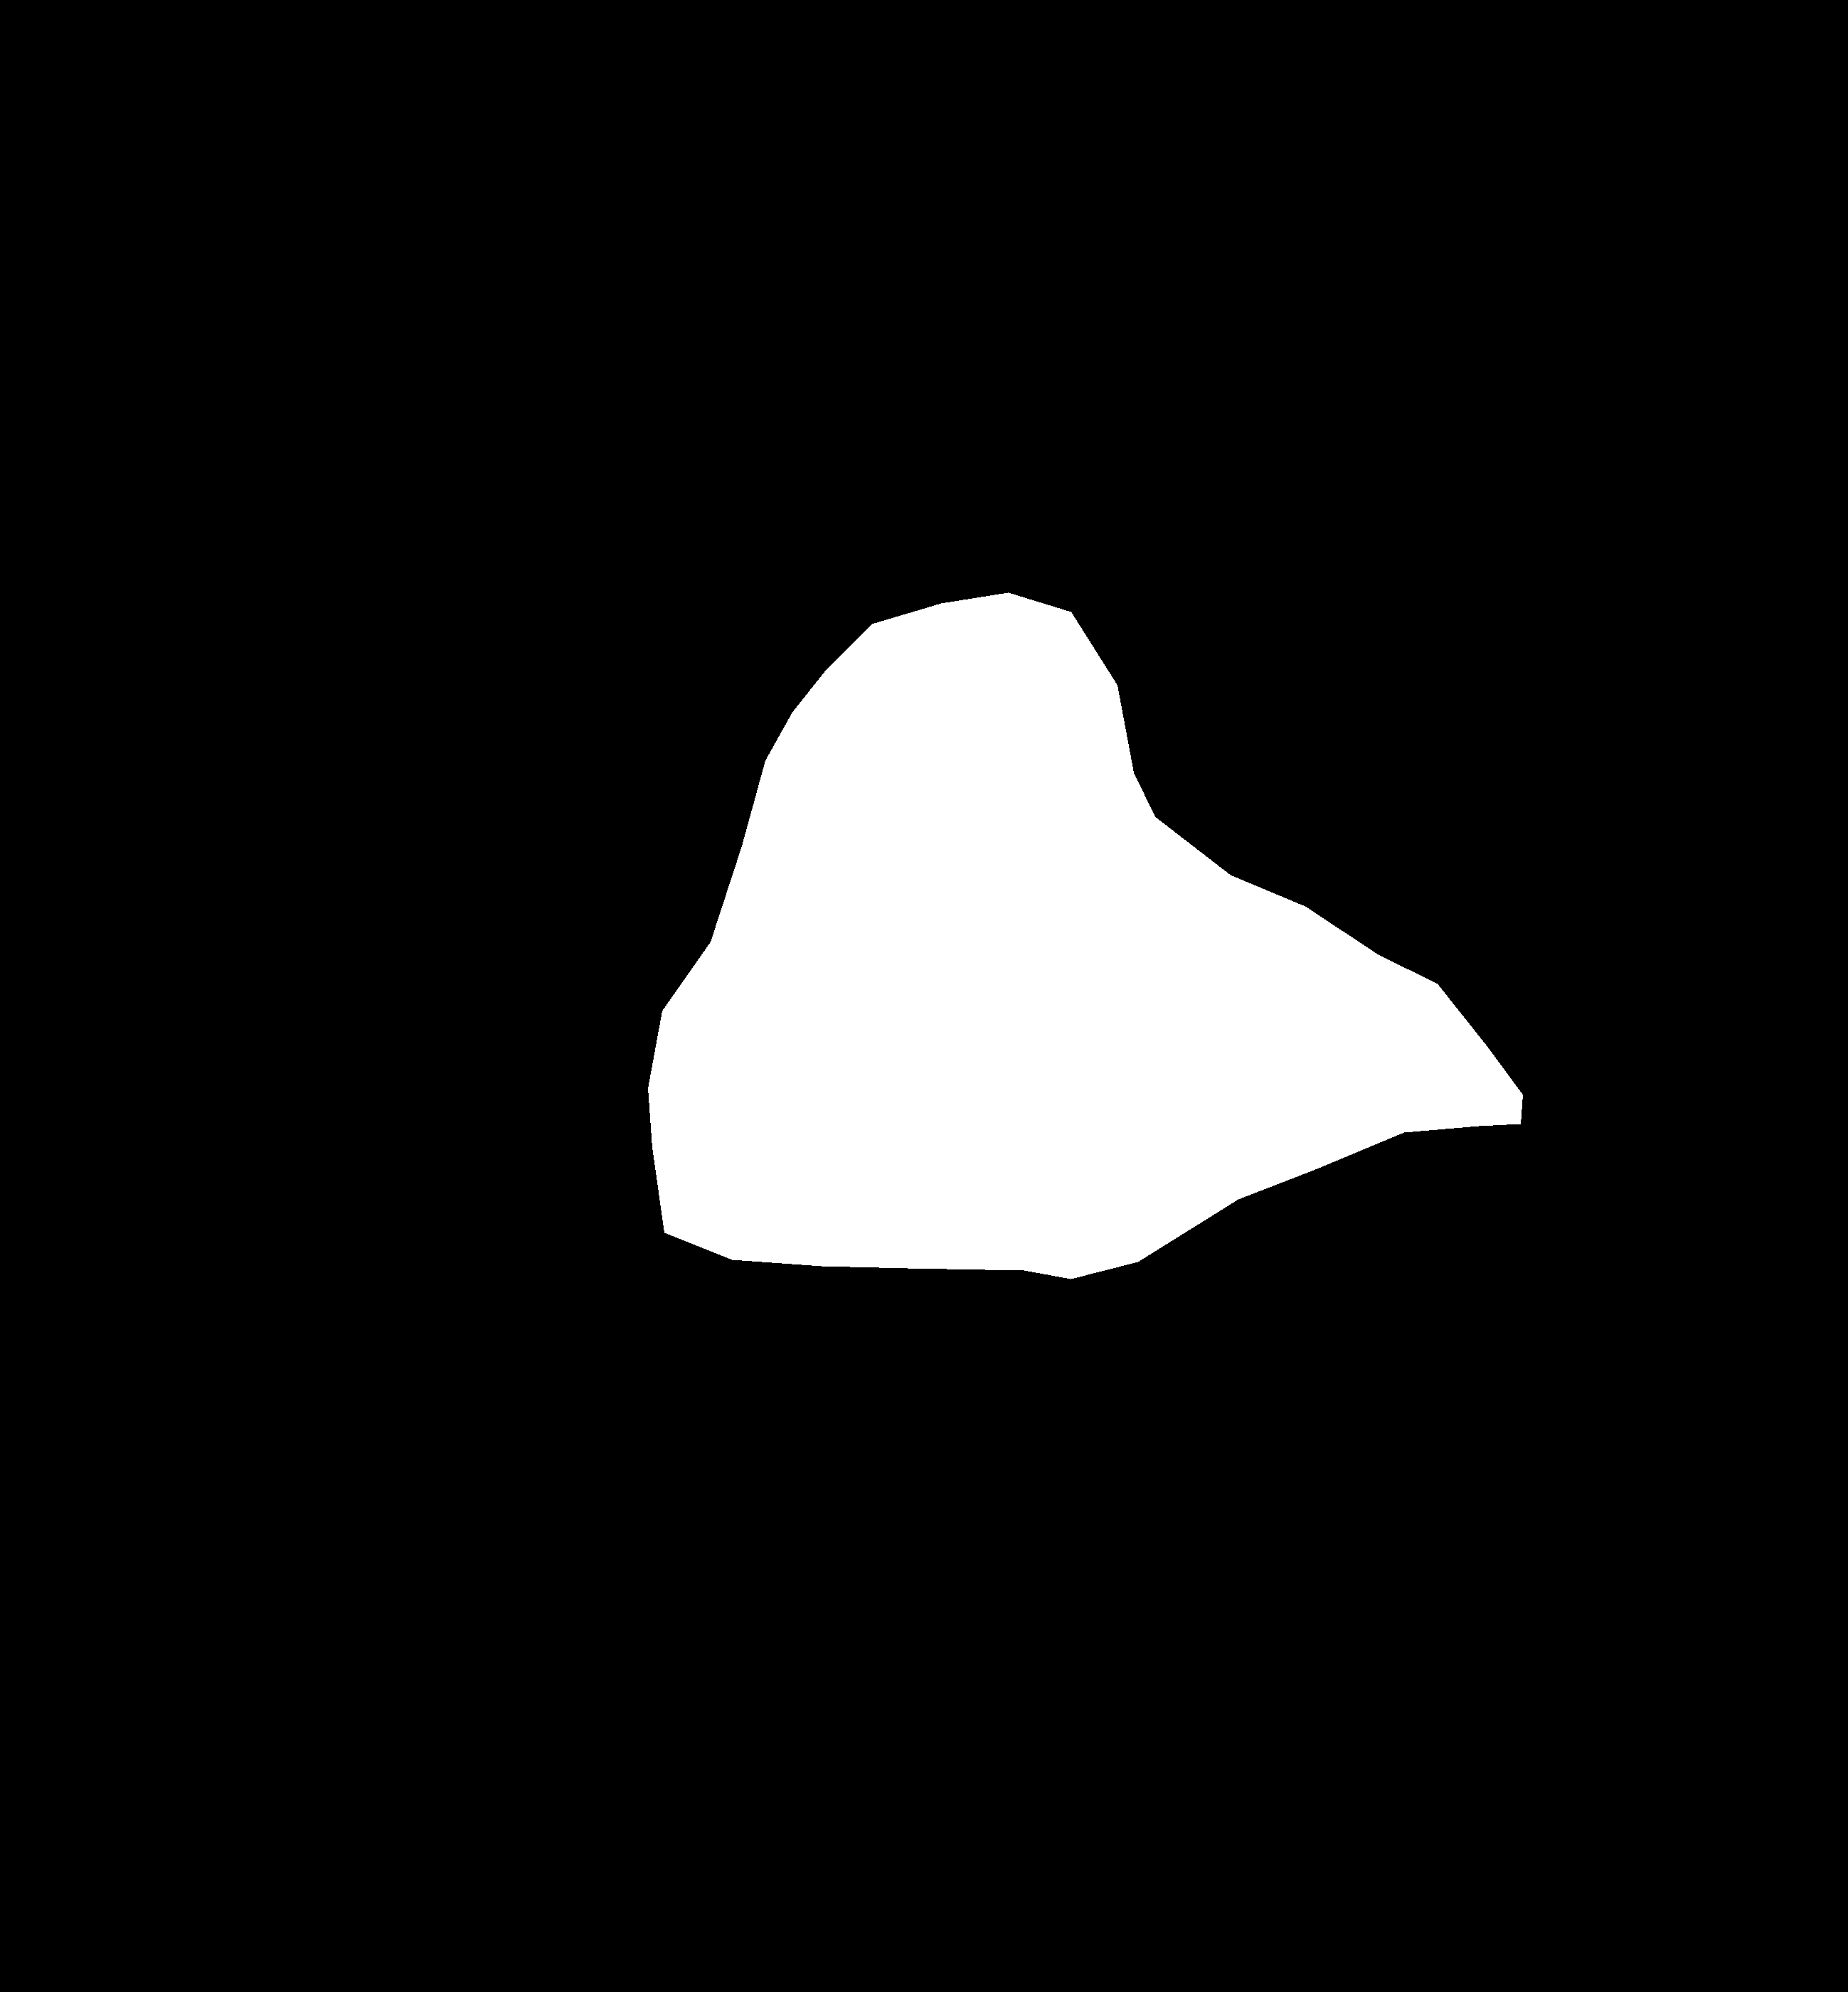heart: (648, 592, 1521, 1278)
left_lung: (212, 155, 809, 1318)
right_lung: (981, 129, 1692, 1224)
